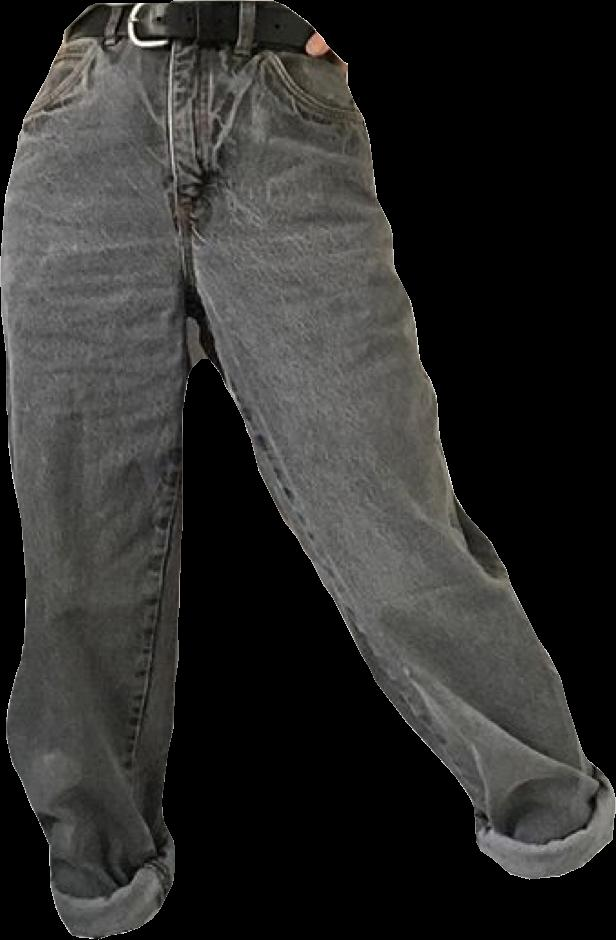Hemline: (480, 798, 615, 882), (70, 873, 174, 939)
Pantleg: (171, 0, 615, 878), (1, 4, 188, 937)
Waistline: (58, 32, 344, 71), (84, 0, 315, 37)
